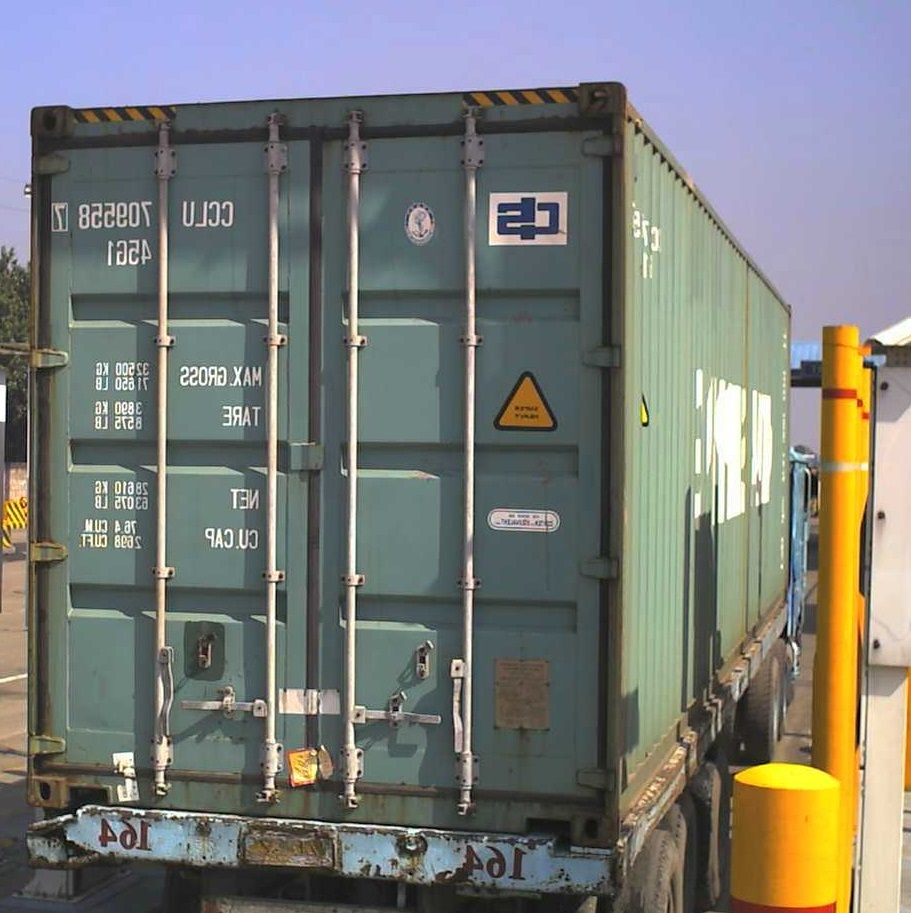container_door: (27, 78, 627, 811)
